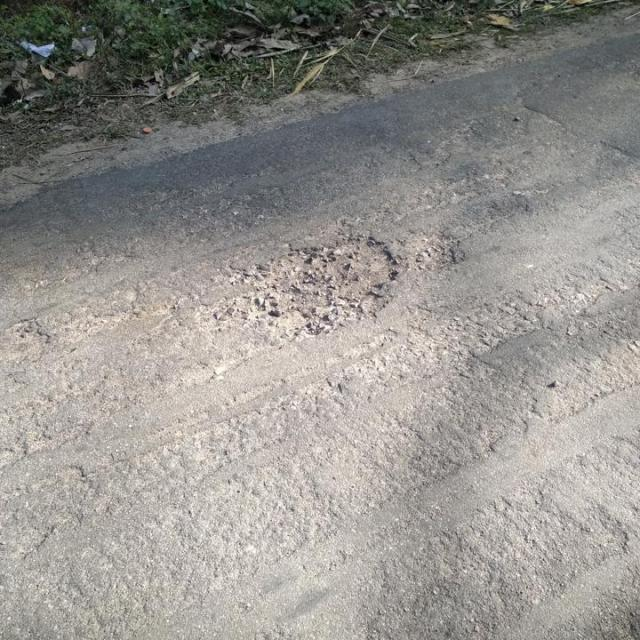Pothole: (223, 230, 402, 347)
